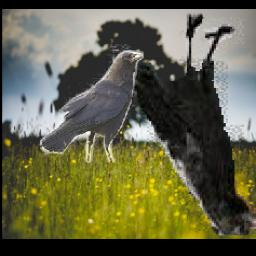Crow: (107, 14, 256, 236), (40, 51, 144, 163)
